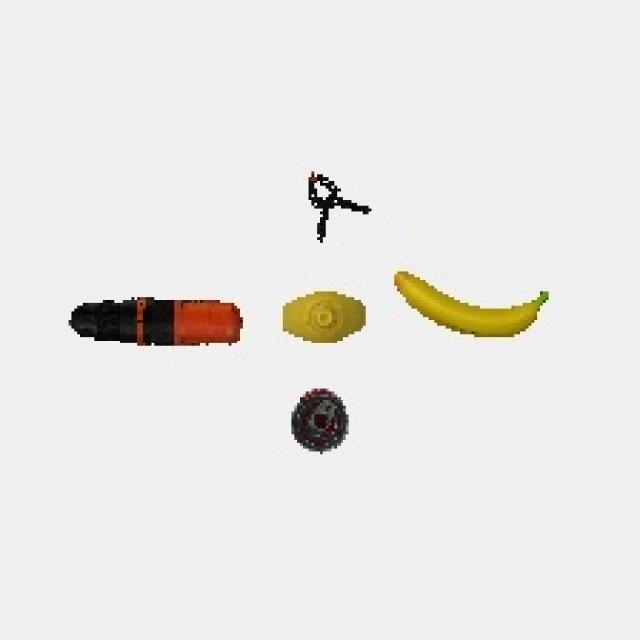Banana: (388, 263, 557, 348)
MediumClamp: (301, 167, 375, 248)
MustardBottle: (275, 284, 374, 348)
PowerDrill: (64, 289, 249, 362)
TomatoSoupCan: (286, 384, 355, 460)
